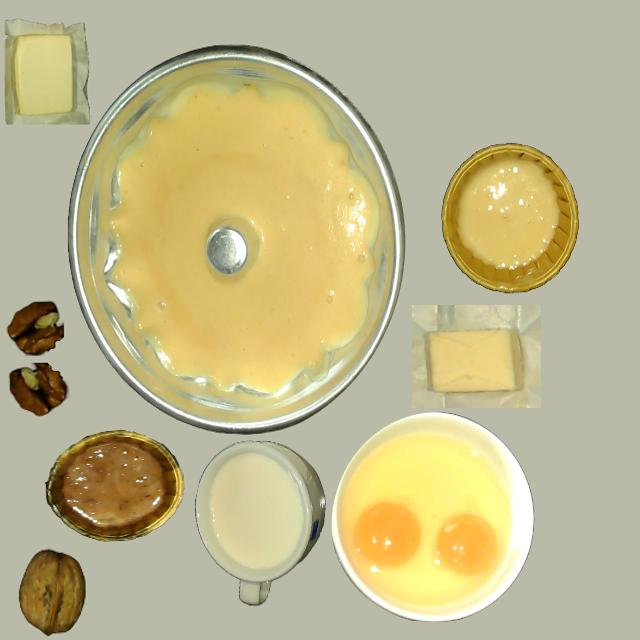Egg: (354, 502, 419, 568), (435, 514, 497, 576)
Milk: (211, 456, 300, 570)
Walnut: (18, 550, 86, 635)
